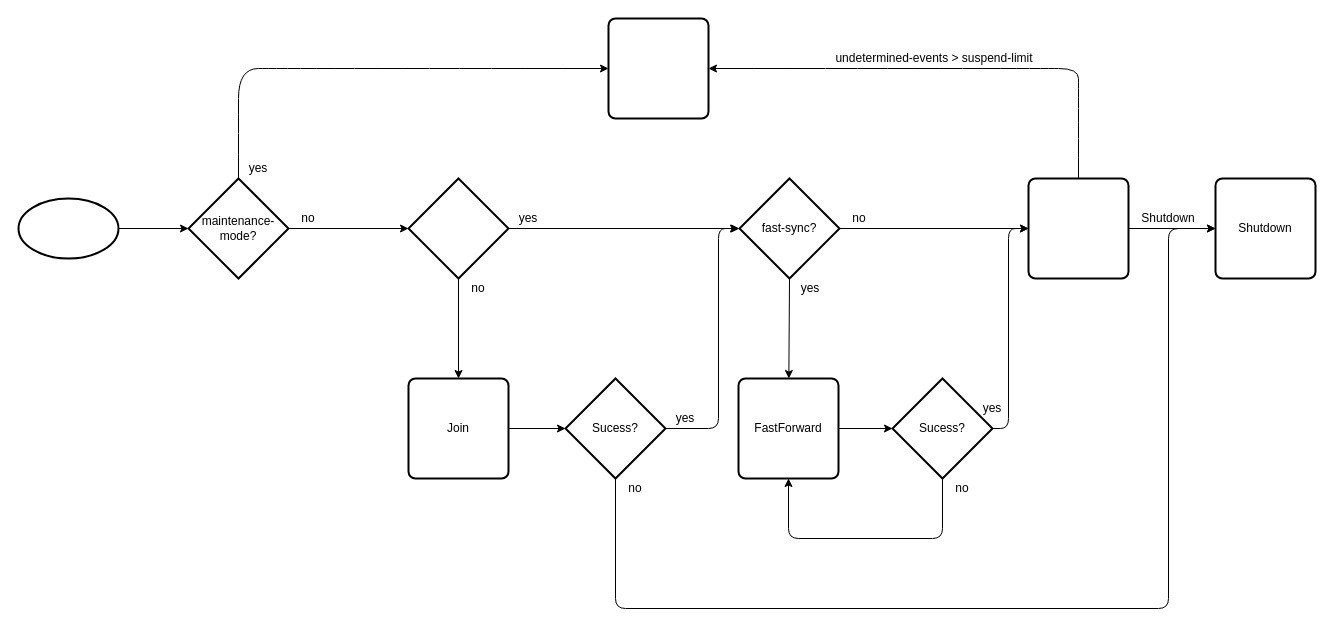
This 1333x634 diagram has some shape labels left out. The box of each missing label's shape, as (x1, y1, x2, y2) in pixels:
Babble: (1027, 177, 1129, 279)
Belong to peer-set?: (407, 177, 509, 279)
Init: (17, 197, 119, 259)
Suspend: (607, 17, 709, 119)
